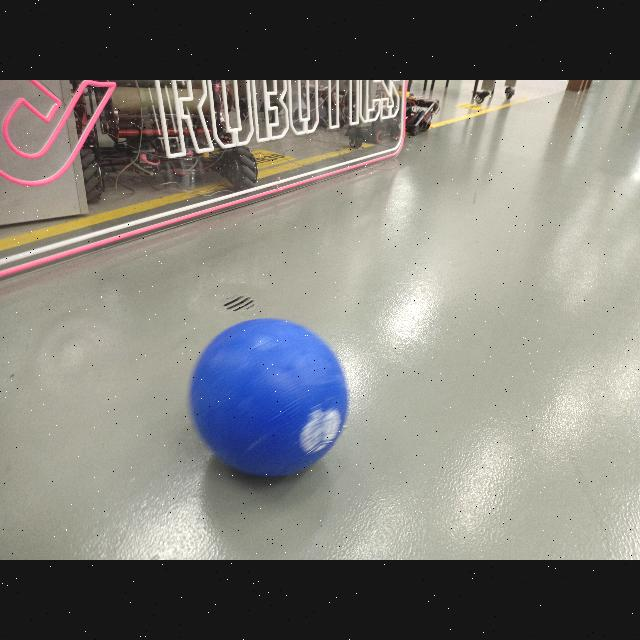B: (187, 318, 349, 478)
